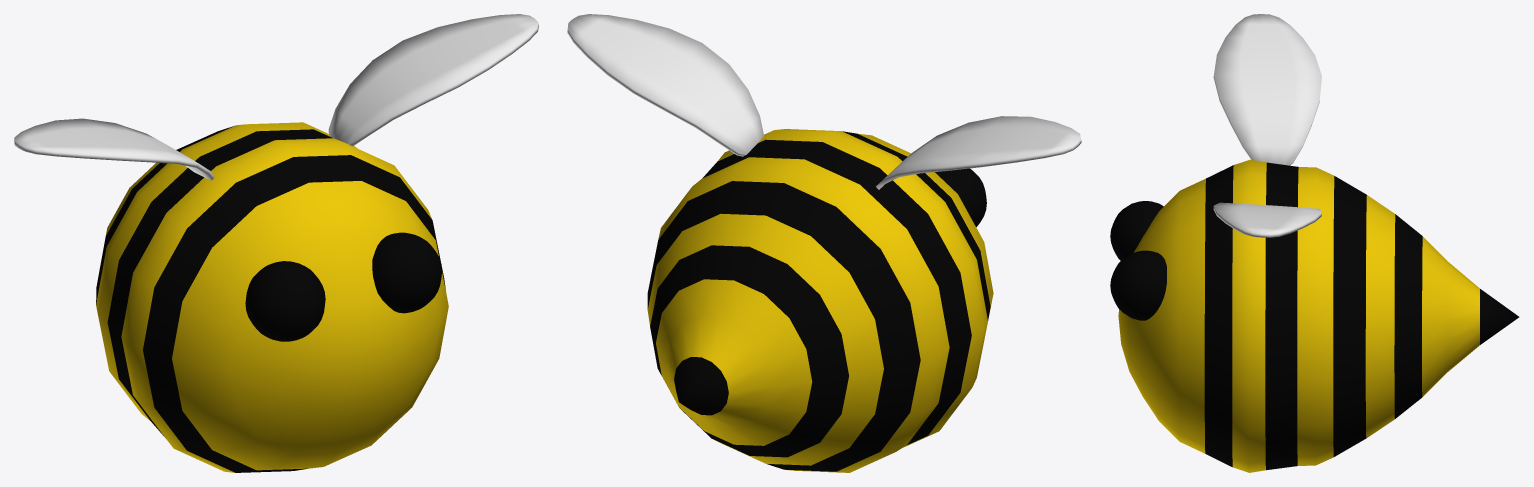
The model's file is Bee.fbx.
The picture shows the model from 3 angles, left to right: view 1: azimuth 30°, elevation 25°; view 2: azimuth 150°, elevation 25°; view 3: azimuth 270°, elevation 25°; orthographic projection. The views are drawn at different scales.
Visible parts, largest first — view 1: Bee, Wings, Eyes; view 2: Bee, Wings, Eyes; view 3: Bee, Wings, Eyes.
Part boxes in pixels (box(x1,y1,x2,y2)): Bee: box(96, 122, 448, 472); Wings: box(14, 14, 538, 180); Eyes: box(245, 232, 442, 341); Bee: box(647, 129, 993, 472); Wings: box(567, 14, 1081, 189); Eyes: box(935, 168, 986, 227); Bee: box(1118, 159, 1519, 472); Wings: box(1213, 14, 1321, 237); Eyes: box(1110, 201, 1166, 320).
Bounding box in the file's own units: 2.47 × 1.75 × 1.94.
